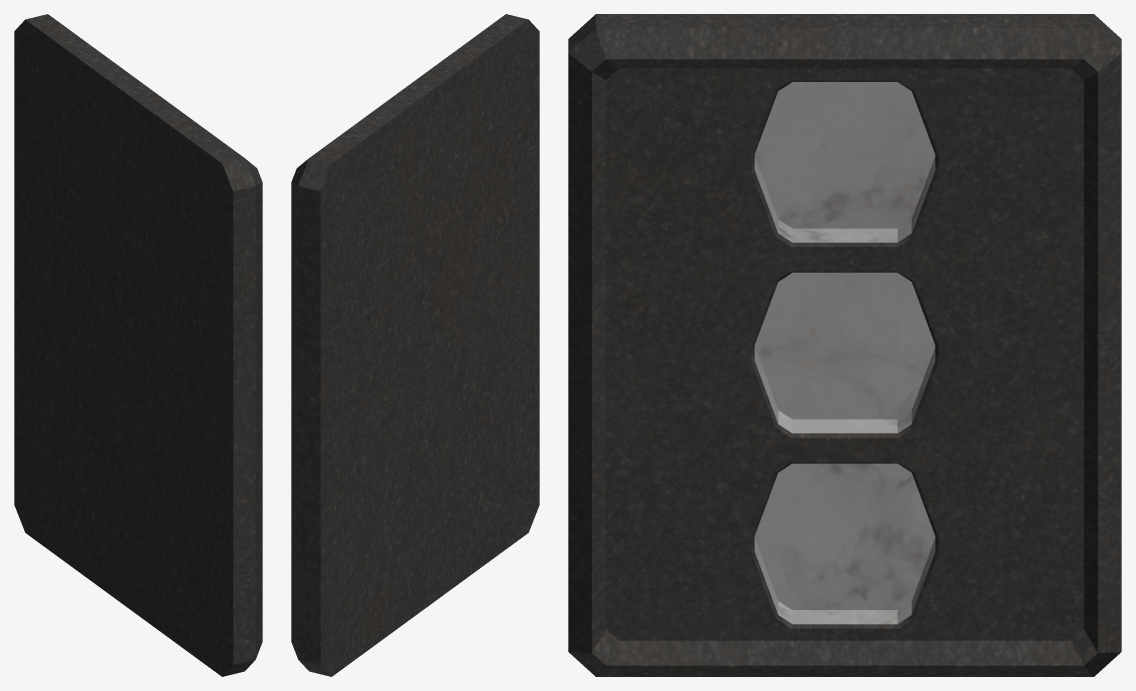
Rendered from MedallionModule2.0.fbx.
3 renders of one model, left to right at view 1: azimuth 30°, elevation 25°; view 2: azimuth 150°, elevation 25°; view 3: azimuth 270°, elevation 25°, orthographic. The views are drawn at different scales.
Parts seen in each view (by area): view 1: polySurface12; view 2: polySurface12; view 3: polySurface12.
Boxes of the visible parts, <box> form: polySurface12: <box>14,14,262,676</box>; polySurface12: <box>291,14,539,676</box>; polySurface12: <box>568,14,1121,676</box>.
Size of the model in its own units: 10.24 by 129 by 100.
